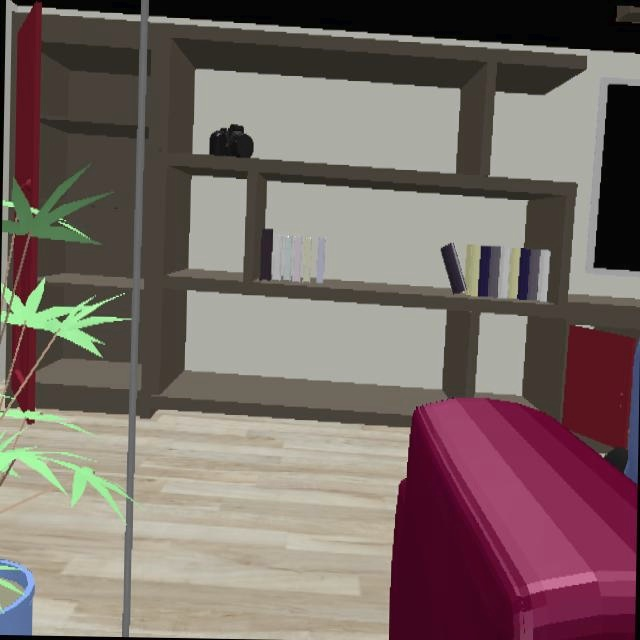book: (441, 242, 554, 301), (262, 228, 326, 283)
bookshelf: (8, 6, 640, 420)
monitor: (594, 81, 640, 275)
sofa: (387, 395, 637, 640)
